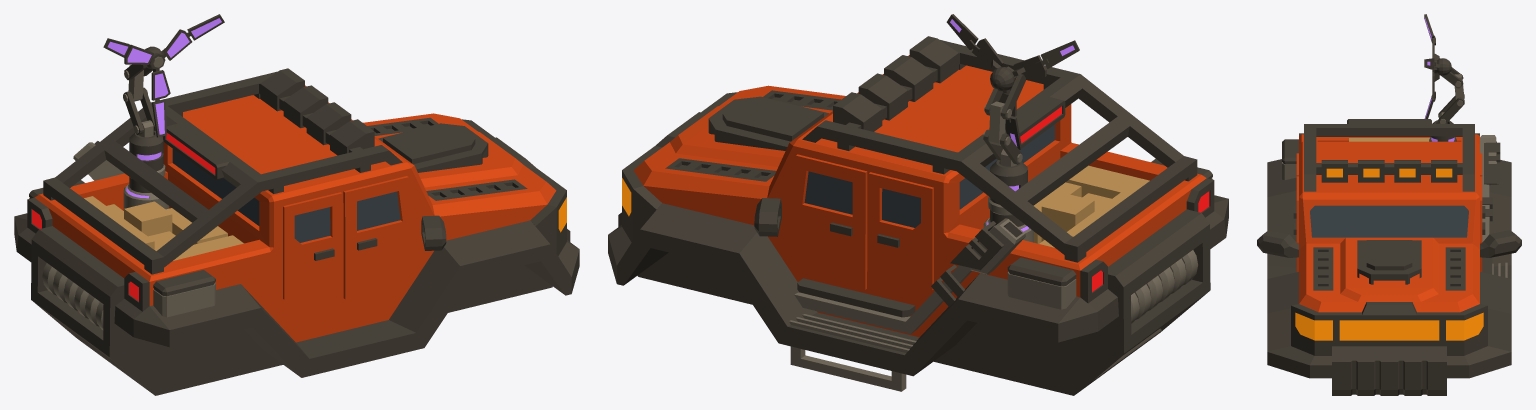
Rendered from chassis.glb.
3 renders of one model, left to right at view 1: azimuth 30°, elevation 25°; view 2: azimuth 150°, elevation 25°; view 3: azimuth 270°, elevation 25°, orthographic. The views are drawn at different scales.
Parts seen in each view (by area): view 1: Plane.001, Cube.011, Cube.017, Plane.003, Cube.033, Sphere, Plane.010, Cylinder.008, stopLights, Cube.034, Cylinder.014; view 2: Plane.001, Cube.011, Plane.003, Cube.033, Cube.017, Sphere, Cylinder.008, stopLights, Cube.036, Cube.035, Cube.034; view 3: Plane.001, Cube.011, Cube.017, Cube.099, Plane.003, Sphere, blinkerLeft, blinkerRight, Cube.034, Cube.033.
Boxes of the visible parts, x1,y1,x2,y2 form: Plane.001: (14, 68, 579, 395); Cube.011: (34, 85, 556, 342); Cube.017: (172, 149, 400, 242); Plane.003: (29, 142, 215, 330); Cube.033: (84, 196, 243, 260); Sphere: (103, 14, 224, 137); Plane.010: (107, 18, 221, 134); Cylinder.008: (129, 131, 163, 192); stopLights: (32, 133, 215, 301); Cube.034: (123, 87, 155, 134); Cylinder.014: (123, 164, 169, 210); Plane.001: (608, 36, 1228, 395); Cube.011: (633, 55, 1206, 337); Plane.003: (789, 178, 1212, 391); Cube.033: (1033, 165, 1149, 247); Cube.017: (804, 124, 1054, 227); Sphere: (946, 14, 1079, 149); Cylinder.008: (990, 160, 1027, 226); stopLights: (1020, 106, 1209, 291); Cube.036: (984, 74, 1025, 119); Cube.035: (989, 101, 1005, 145); Cube.034: (983, 129, 1022, 164); Plane.001: (1257, 119, 1521, 395); Cube.011: (1296, 134, 1482, 312); Cube.017: (1310, 205, 1468, 237); Cube.099: (1326, 168, 1452, 340); Plane.003: (1282, 135, 1507, 277); Sphere: (1424, 14, 1451, 118); blinkerLeft: (1446, 312, 1483, 340); blinkerRight: (1295, 312, 1332, 340); Cube.034: (1438, 94, 1464, 123); Cube.033: (1349, 138, 1429, 141).
Size of the model in its own units: 2.99 by 1.9 by 1.89.
